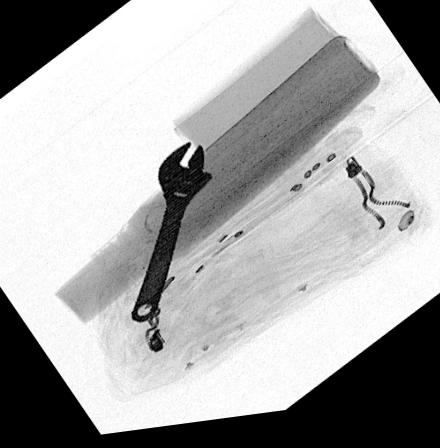Wrench: (126, 141, 216, 330)
